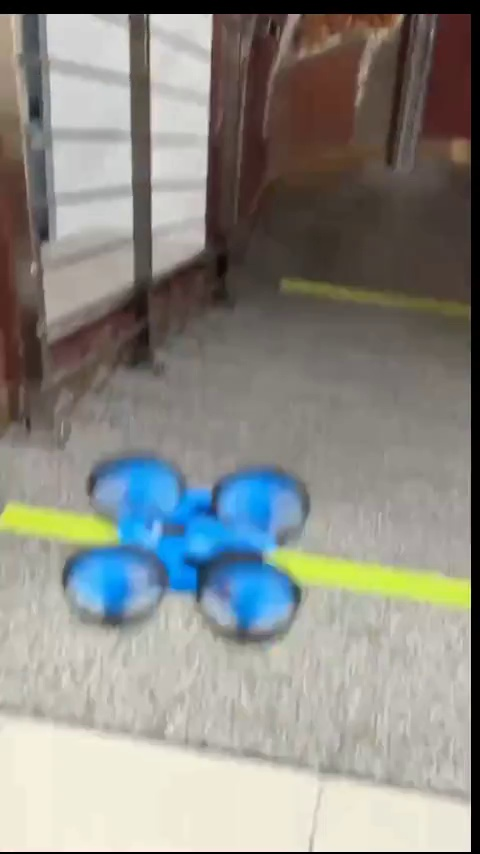drone: (75, 460, 310, 644)
